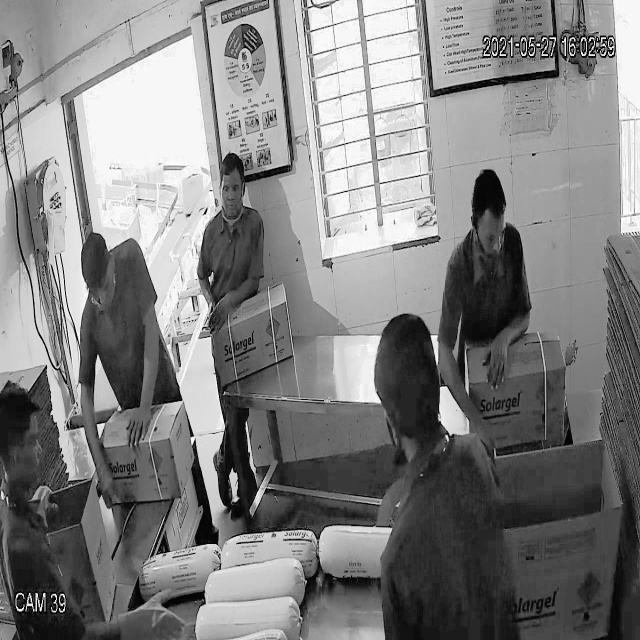Sin_gafas: (472, 213, 512, 252), (215, 173, 247, 203)
